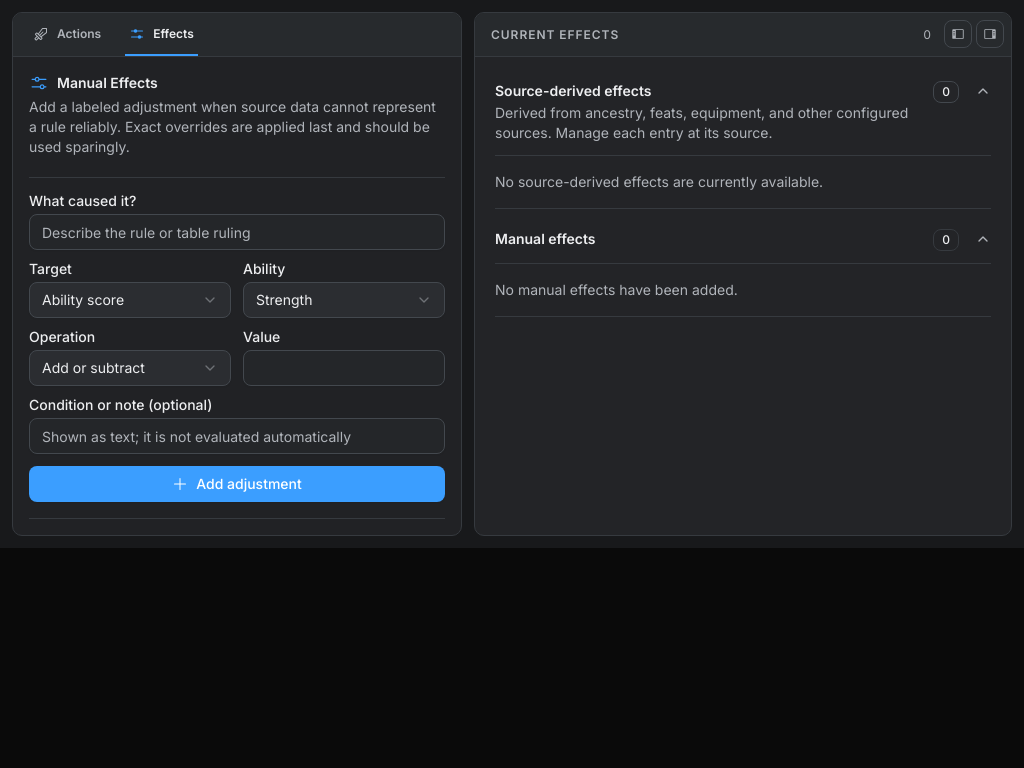
Test: AdjustmentsPage › preserves an explicit Effects deep link and can switch to Actions
Check: the heading "Manual Effects" is shown, box [29, 73, 158, 93]
Check: the heading "Current effects" is shown, box [491, 26, 619, 42]
Click the button "Source-derived effects".
click(743, 112)  # box [495, 77, 991, 147]
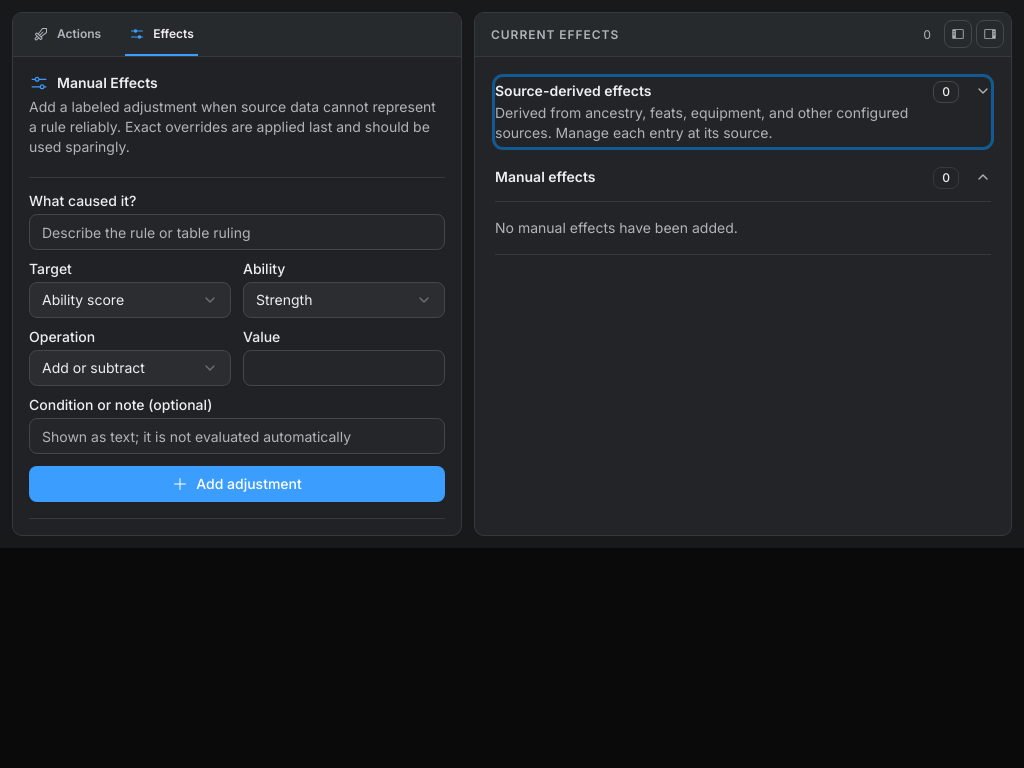
Click the button "Manual effects 0".
click(545, 176)  # box [495, 163, 991, 193]
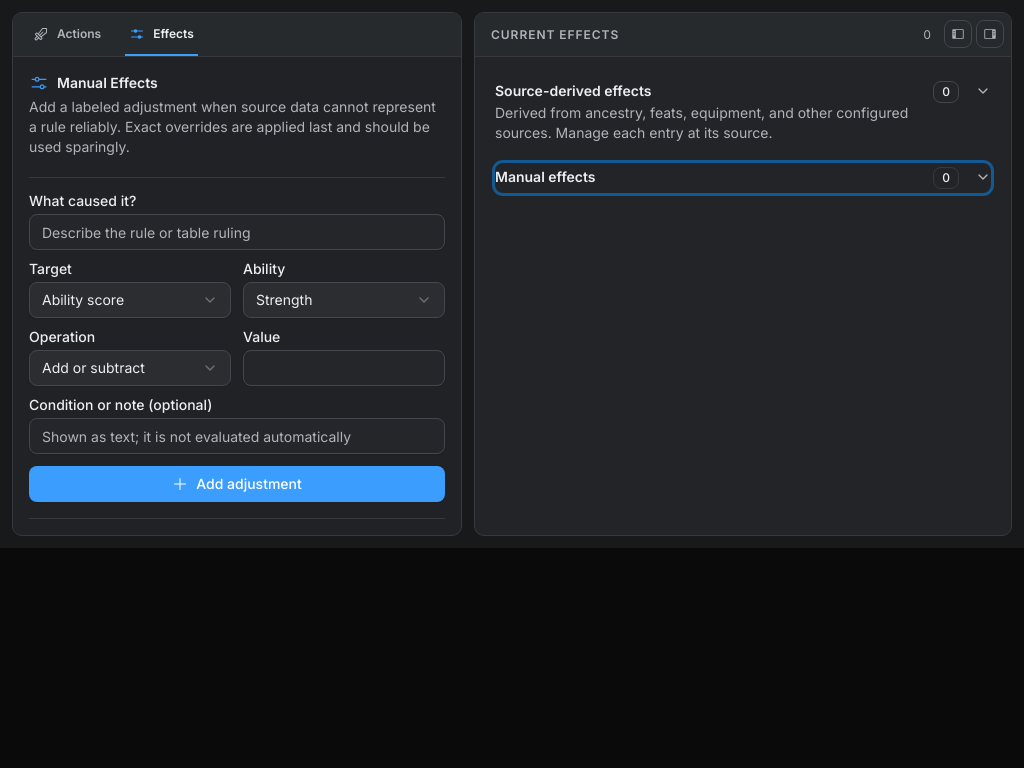
Check: the button "Source-derived effects" is collapsed, box [495, 77, 991, 147]
Check: the button "Manual effects 0" is collapsed, box [495, 163, 991, 193]
Click the tab "Actions".
click(67, 34)  # box [29, 13, 105, 56]
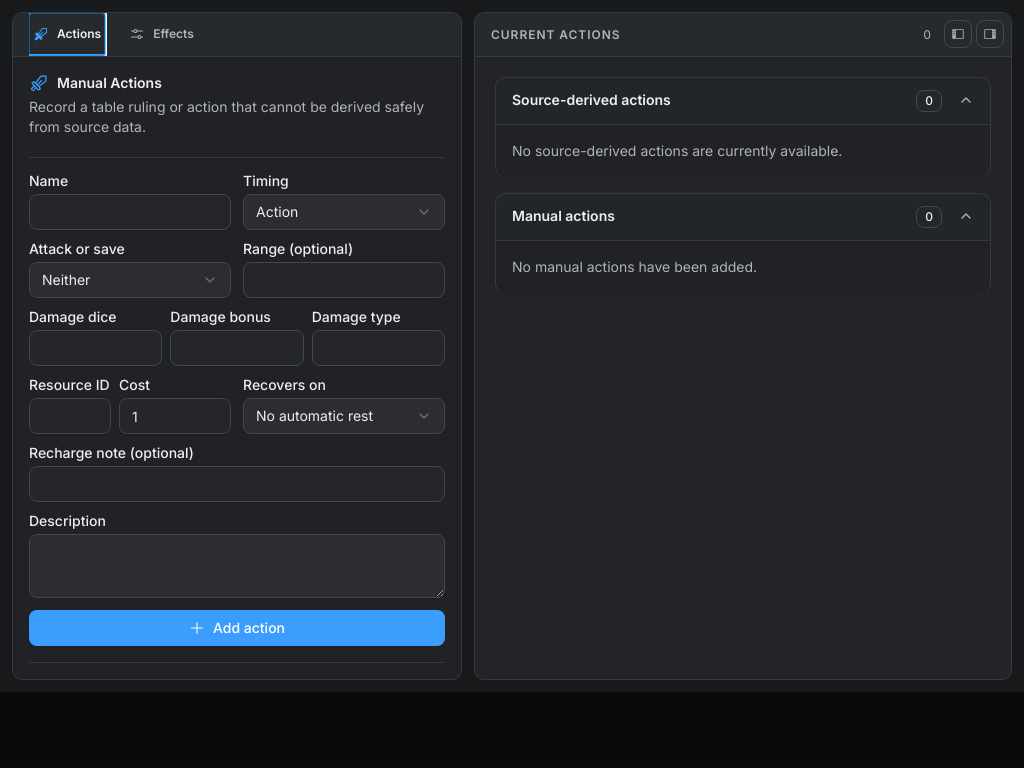
Check: the heading "Manual Actions" is shown, box [29, 73, 162, 93]
